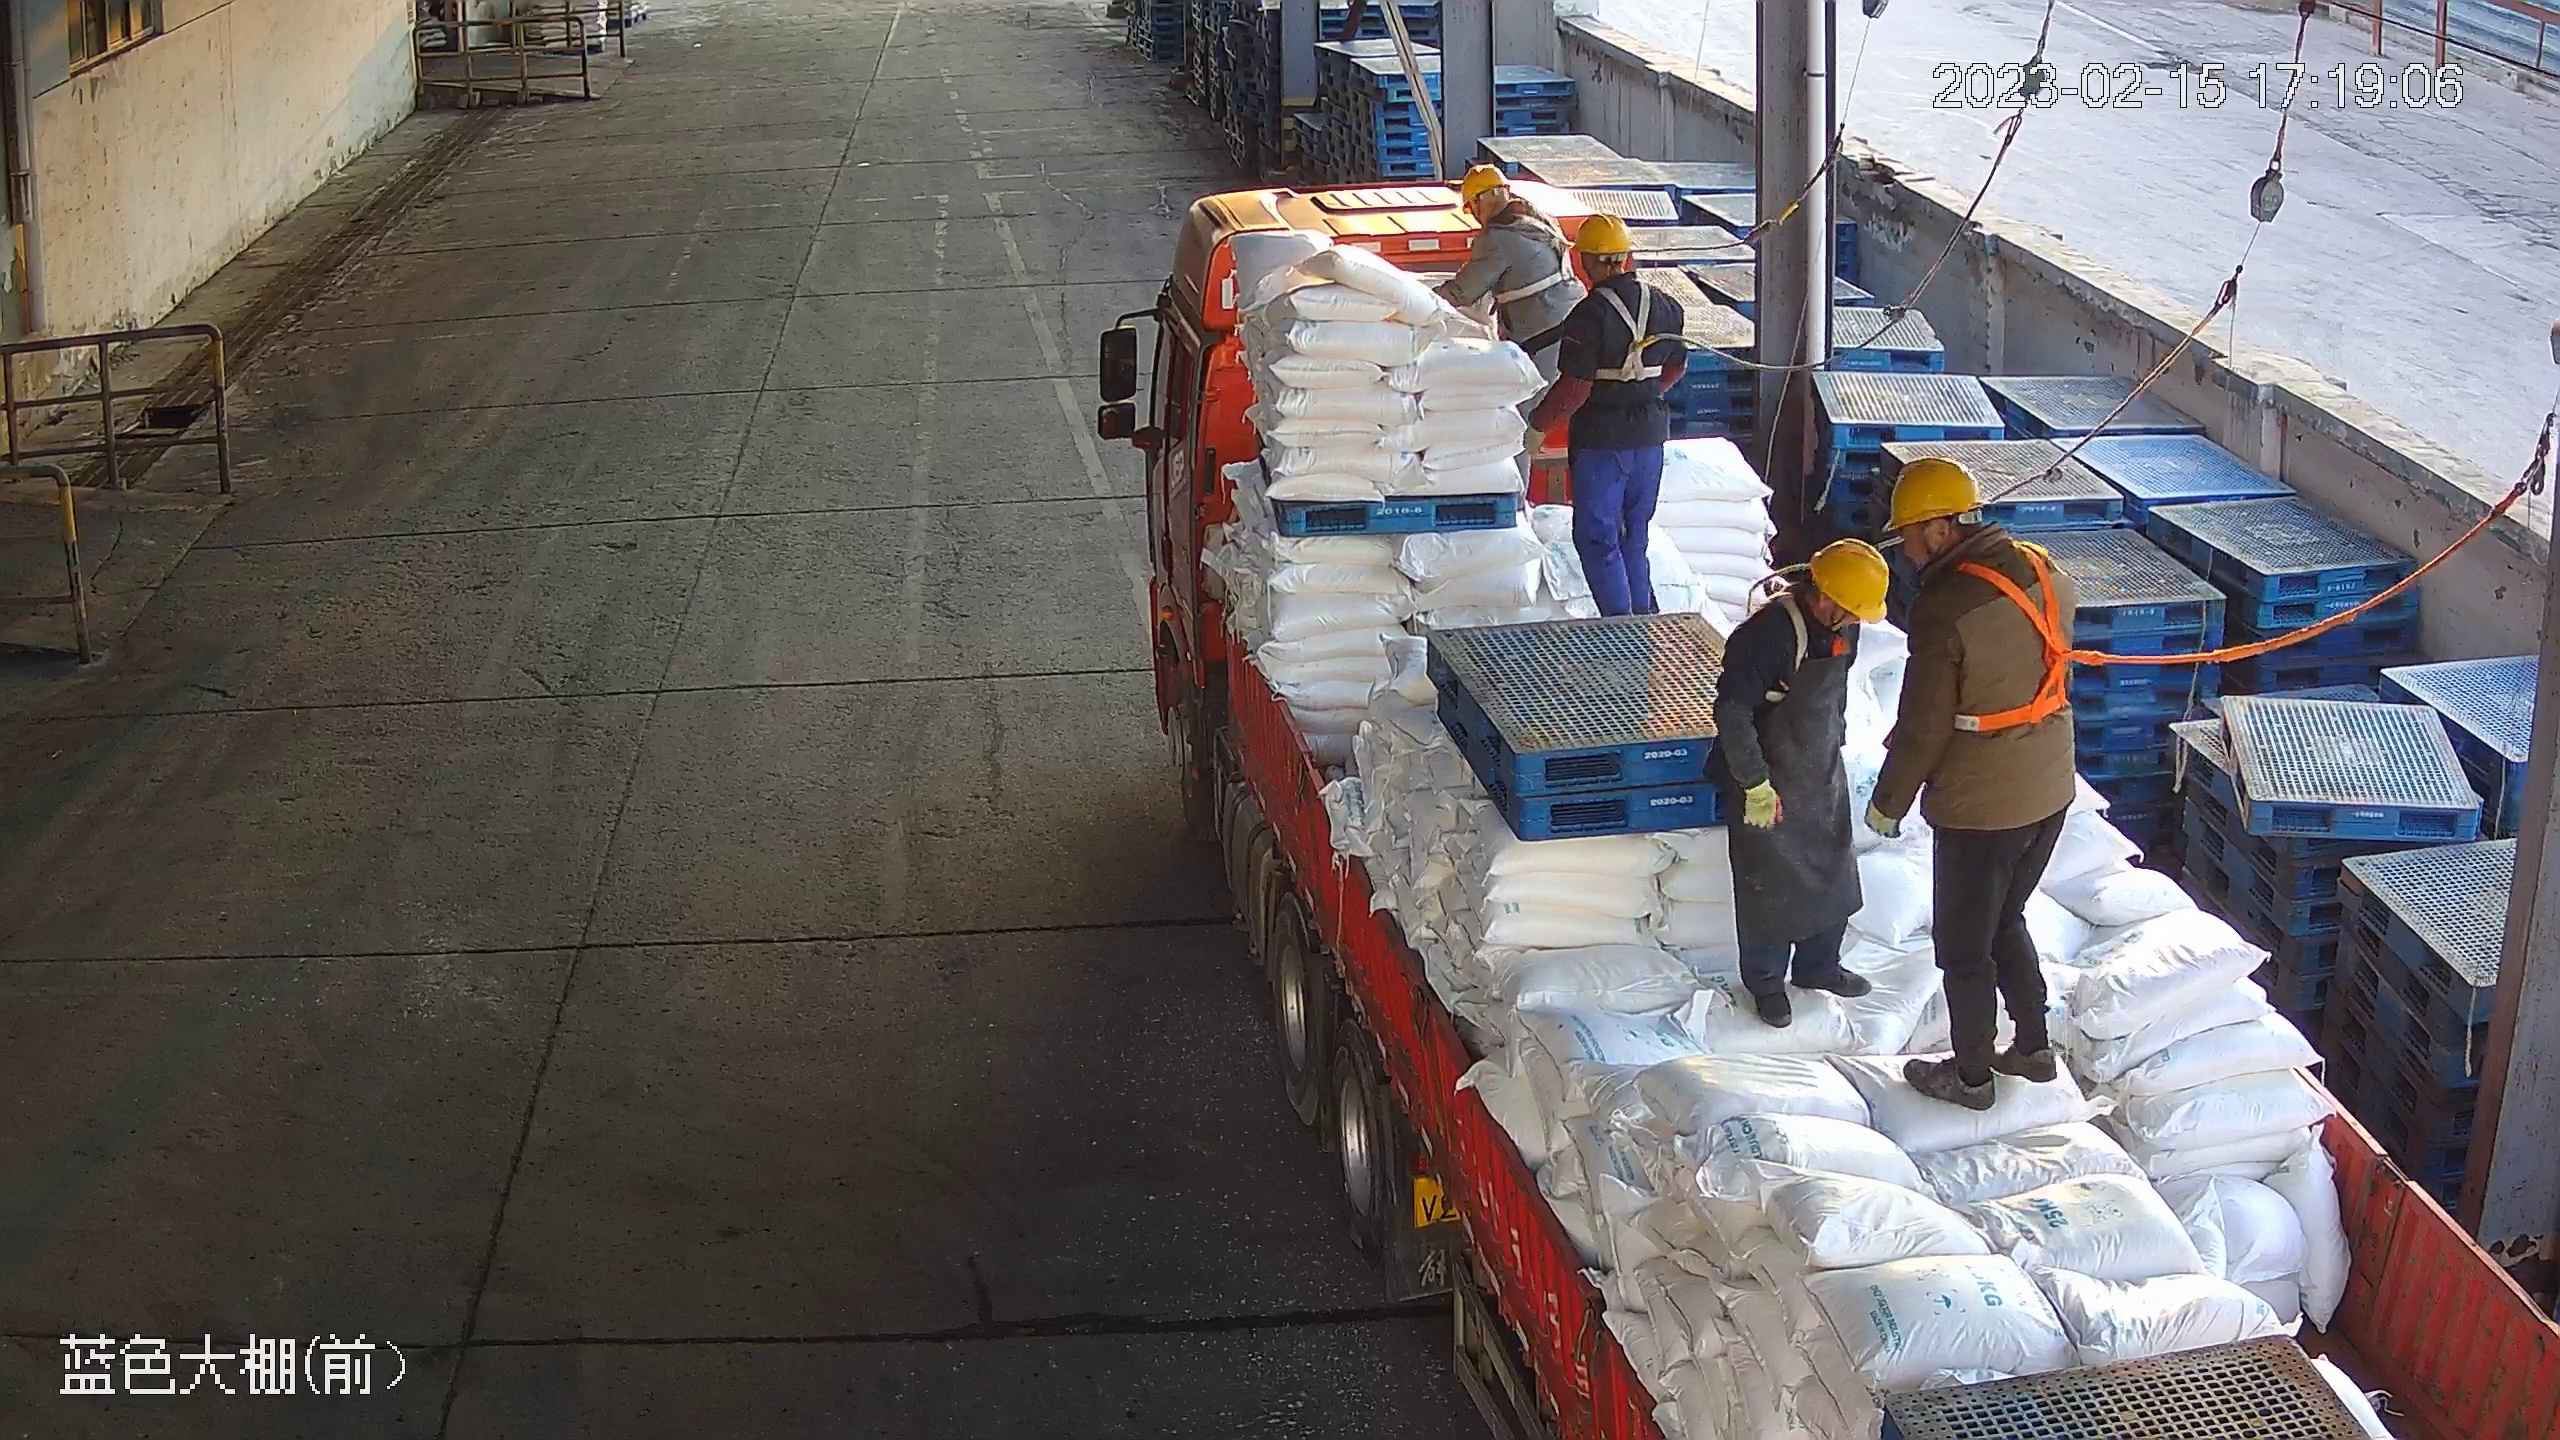belt: (1956, 536, 2107, 733), (1730, 553, 1821, 705), (1594, 276, 1675, 390), (1494, 206, 1582, 306)
head: (1864, 462, 2075, 656), (1714, 537, 1892, 674), (1552, 215, 1684, 356), (1444, 163, 1559, 273)
helmet: (1807, 535, 1893, 627), (1882, 456, 1984, 531), (1570, 214, 1636, 260), (1460, 162, 1511, 210)
people: (1864, 460, 2077, 1110), (1705, 538, 1894, 1030), (1523, 212, 1688, 622), (1437, 164, 1590, 533)
truck: (1079, 164, 2560, 1440)
